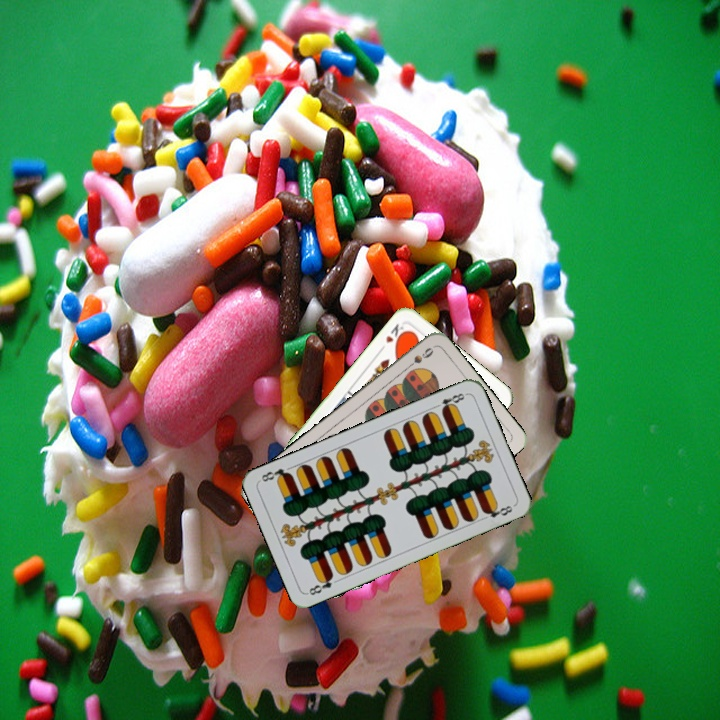E8: (304, 570, 343, 598), (430, 389, 469, 414)
HK: (375, 319, 409, 354)
S9: (401, 343, 436, 373)
